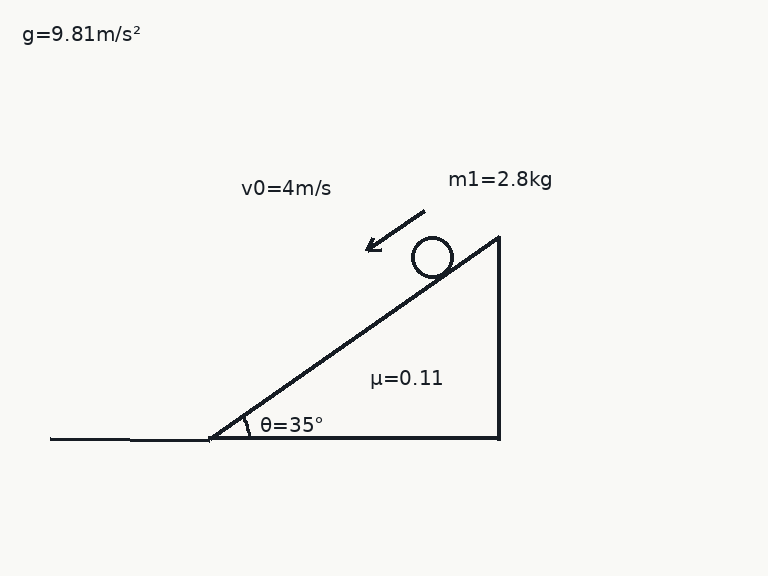ball: (409, 234, 455, 280)
ramp: (207, 235, 500, 441)
